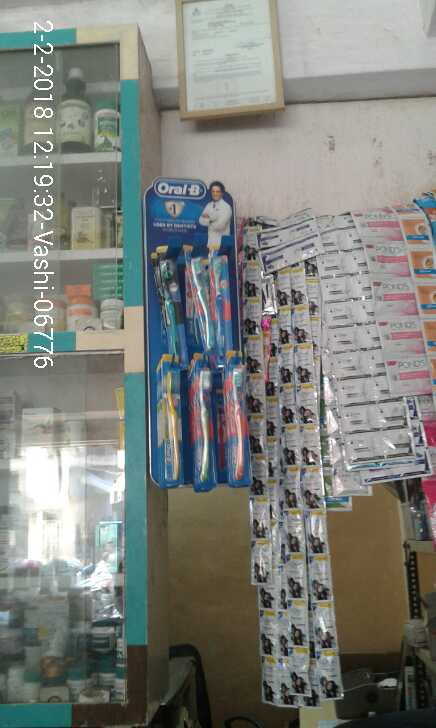oralb: (152, 351, 184, 483), (223, 350, 250, 486), (186, 246, 217, 349), (191, 354, 215, 486), (154, 248, 180, 351), (210, 256, 234, 350)
